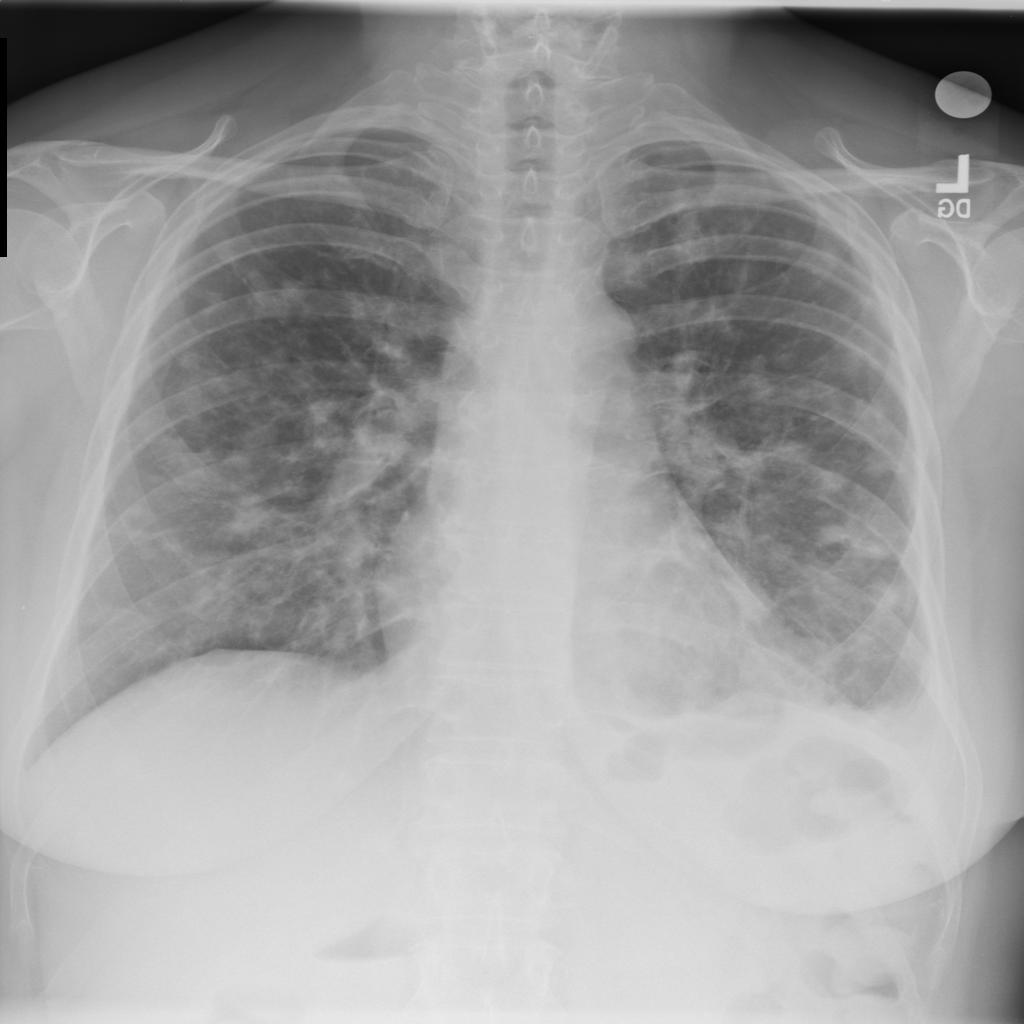nodule: (727, 619, 861, 722), (144, 432, 231, 497), (238, 259, 318, 325), (840, 393, 913, 461), (851, 562, 926, 626), (747, 425, 825, 486), (161, 335, 221, 378), (184, 277, 241, 322), (758, 332, 813, 378), (853, 439, 910, 483), (803, 515, 861, 558)
